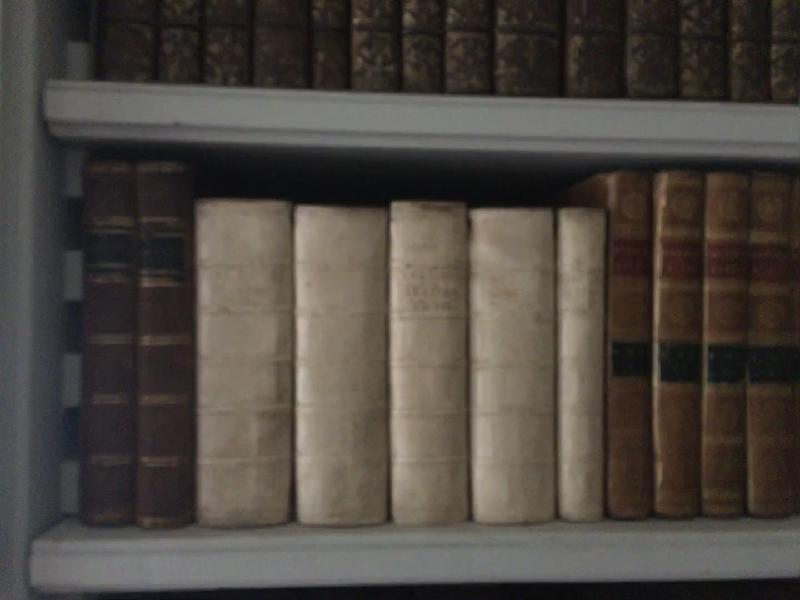Kk4-1_2: (76, 151, 200, 540)
Kk4-3_7: (191, 189, 611, 539)
Kk4-8_13: (602, 160, 800, 529)
